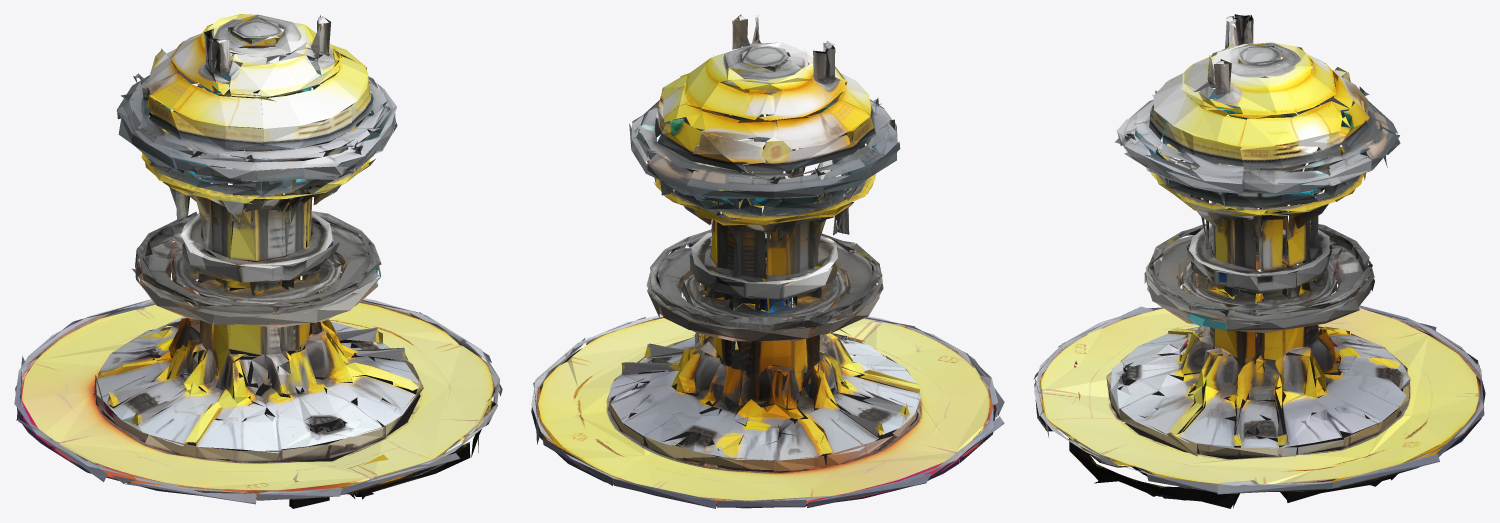
File: research_center_t2.fbx
3 renders of one model, left to right at view 1: azimuth 30°, elevation 25°; view 2: azimuth 150°, elevation 25°; view 3: azimuth 270°, elevation 25°, orthographic. The views are drawn at different scales.
Parts seen in each view (by area): view 1: research_center_t2; view 2: research_center_t2; view 3: research_center_t2.
Part boxes in pixels (bbox=[...]): research_center_t2: bbox=[14, 14, 502, 508]; research_center_t2: bbox=[531, 14, 1004, 508]; research_center_t2: bbox=[1033, 14, 1485, 508].
Size of the model in its own units: 4.63 by 4.33 by 4.61.
1 material, 1 textured.
